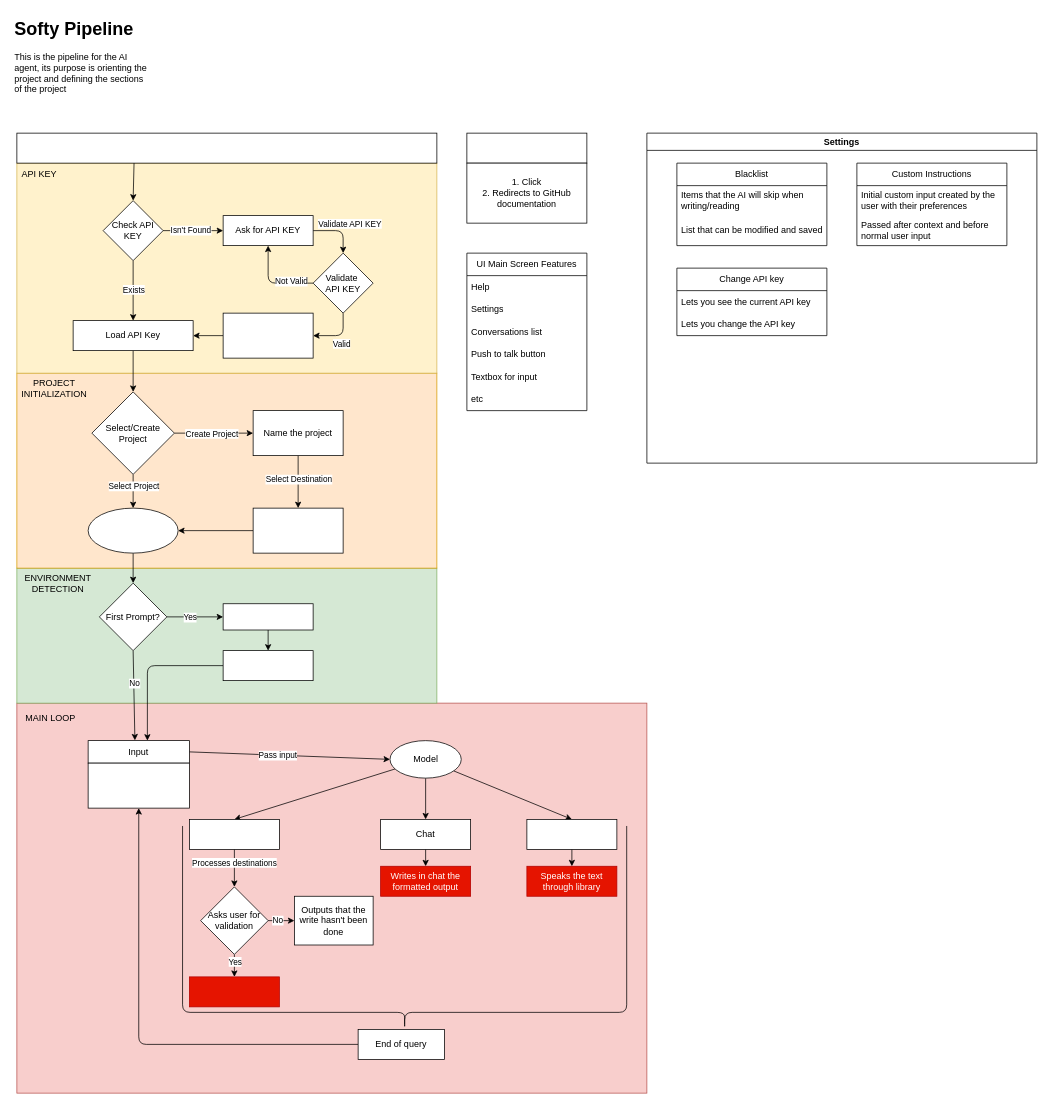
The diagram is 1050 pixels wide and 1106 high, and some of its shapes have lost their labels. Each missing label, with the centre of its shape:
Create conversation: the point at 267,616
Create Folder in Selected Destination: the point at 297,530
Either: - Write in textbox - Press button to speak: the point at 138,785
Folder Path Defined: the point at 132,530
Help Button: the point at 526,147
Initial Prompt with Context: the point at 267,665
Save API KEY into text file: the point at 267,335
Speak: the point at 571,834
Start Application: the point at 226,147
Write: the point at 234,834
Writes in selected files to be written to: the point at 234,991
